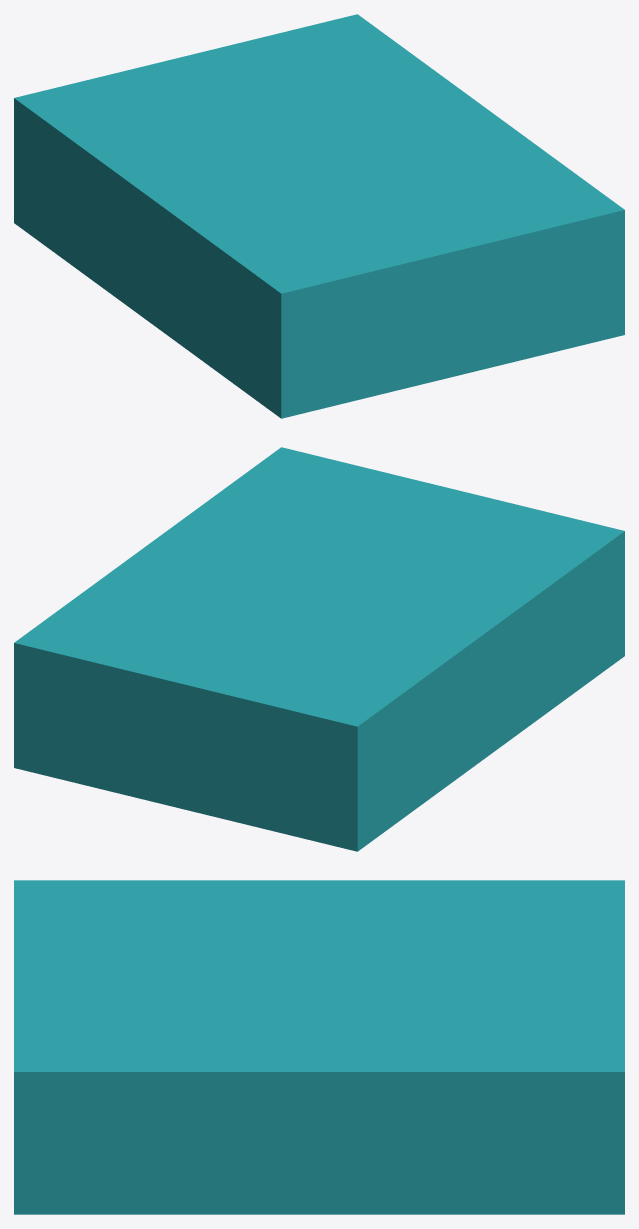
Rendered from utility-shelving.glb.
3 views of the same model, one above another, from view 1: azimuth 30°, elevation 25°; view 2: azimuth 150°, elevation 25°; view 3: azimuth 270°, elevation 25° (orthographic). The views are drawn at different scales.
Parts seen in each view (by area): view 1: world; view 2: world; view 3: world.
Part boxes in pixels (box(x1,y1,x2,y2)): world: box(14, 14, 624, 418); world: box(14, 447, 624, 851); world: box(14, 880, 624, 1214).
Bounding box in the file's own units: 1.15 × 0.4 × 1.55.
